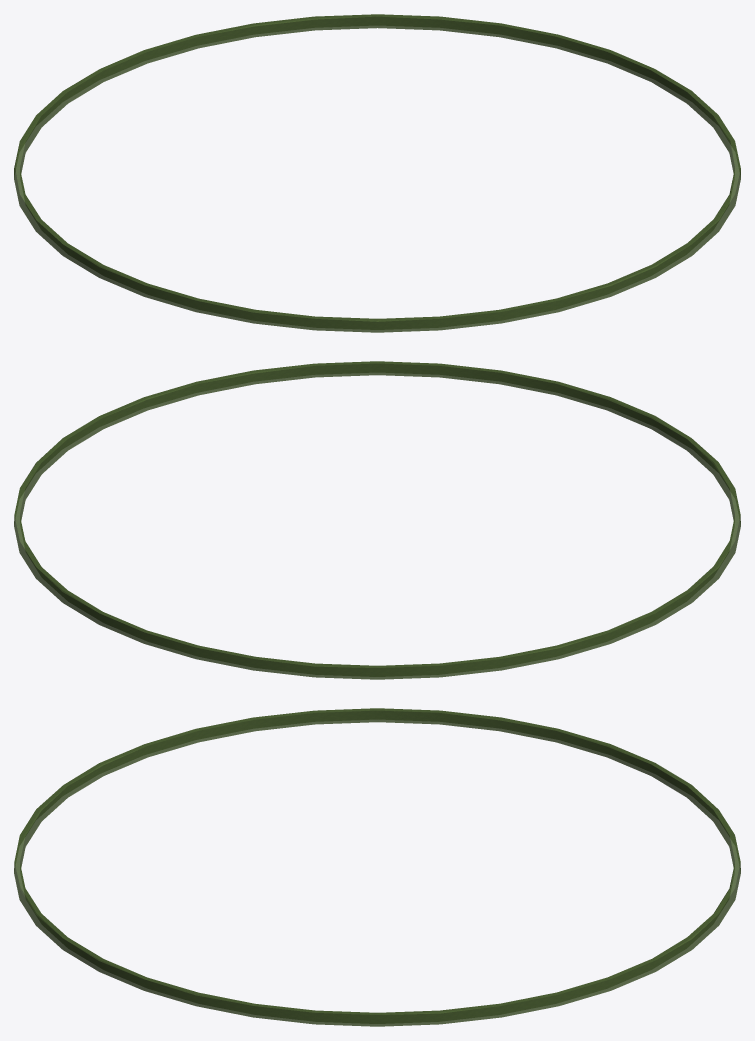
Rendered from muro verde.fbx.
3 views of the same model, one above another, from view 1: azimuth 30°, elevation 25°; view 2: azimuth 150°, elevation 25°; view 3: azimuth 270°, elevation 25° (orthographic).
Parts seen in each view (by area): view 1: Circle.043; view 2: Circle.043; view 3: Circle.043.
Part boxes in pixels (<box>): Circle.043: <box>14,14,740,332</box>; Circle.043: <box>14,361,740,679</box>; Circle.043: <box>14,708,740,1026</box>.
Bounding box in the file's own units: 59998 × 1069 × 59998.
1 material, 1 textured.
